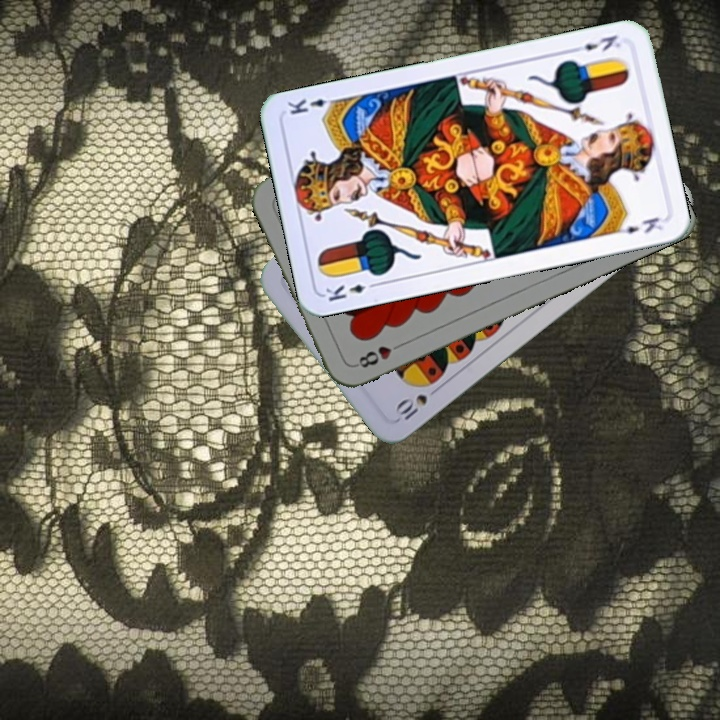EK: (321, 278, 381, 304), (567, 31, 624, 56)
H8: (351, 338, 407, 371)
S10: (391, 390, 430, 423)
